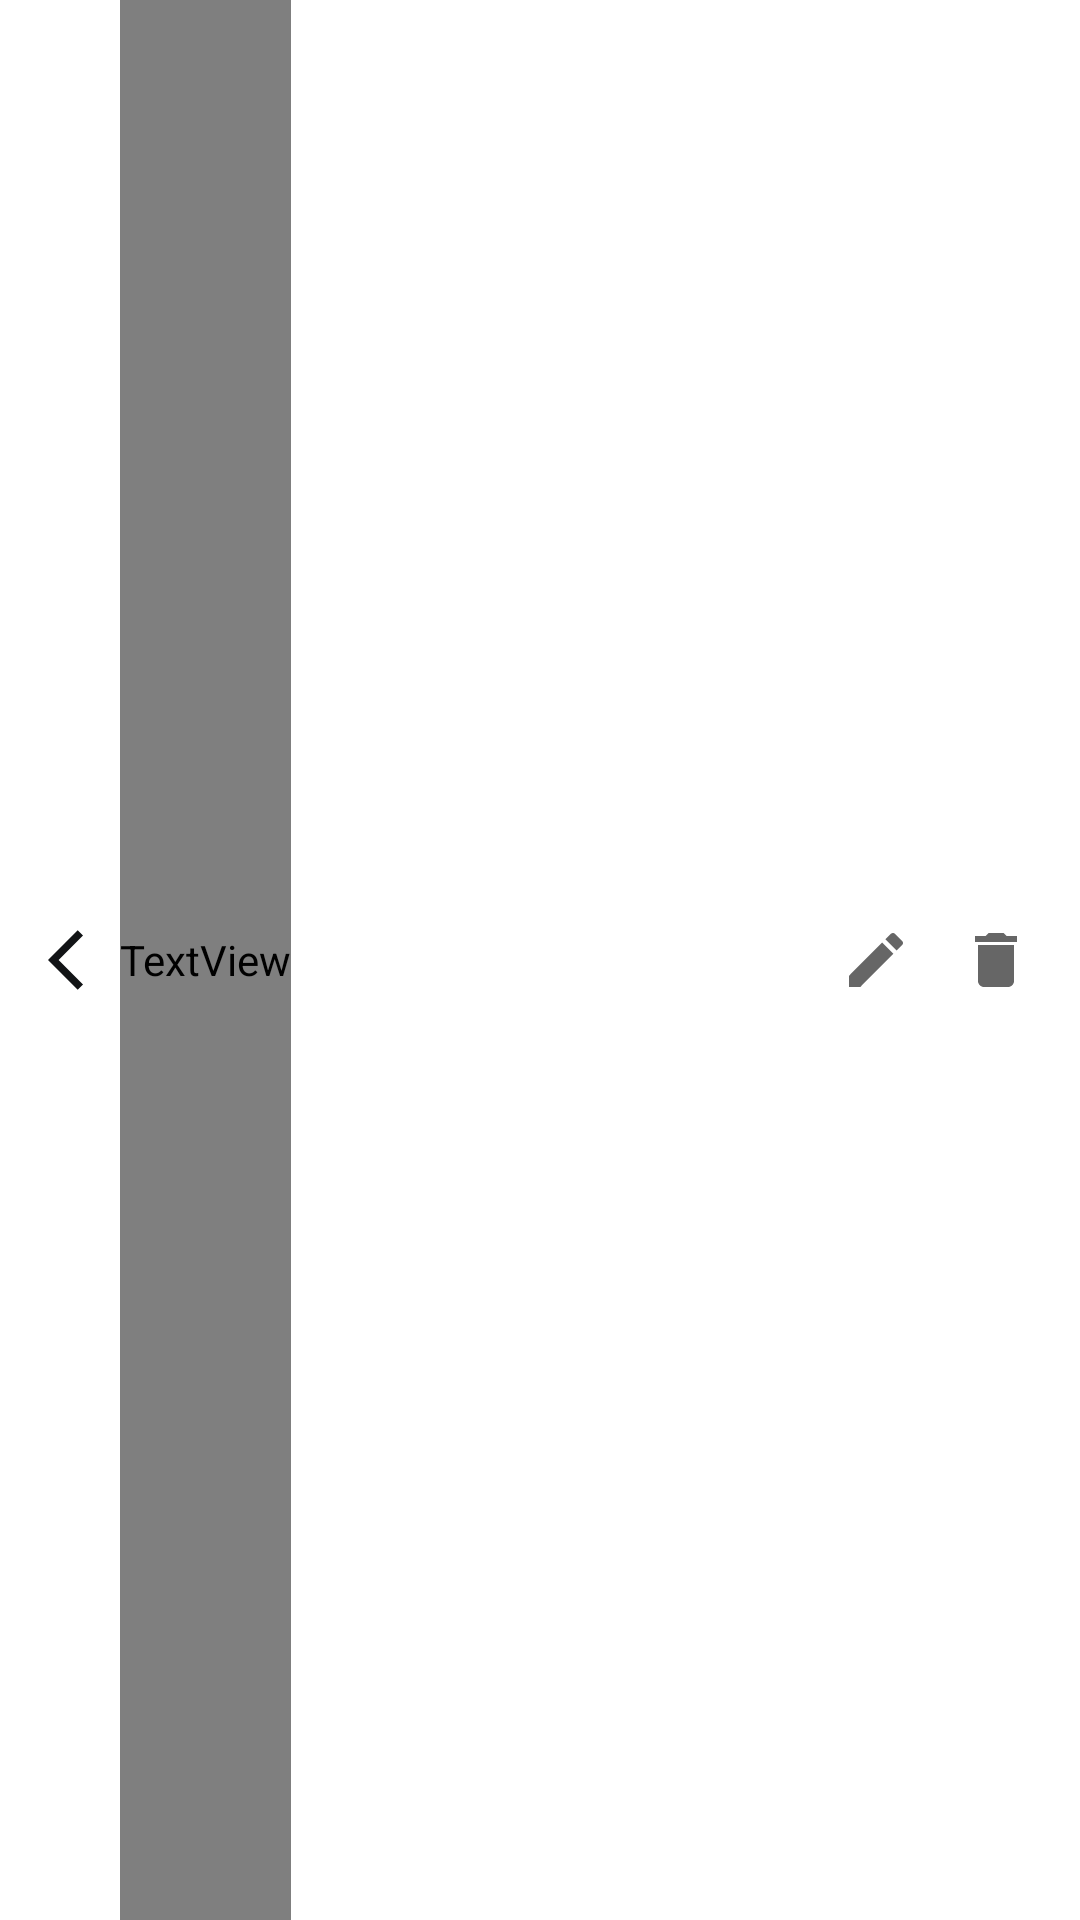

Point at icon controls on the screen. Image size 1080 × 1920, points as point (x, y).
back: point (65, 960)
delete: point (996, 960)
edit: point (876, 960)
